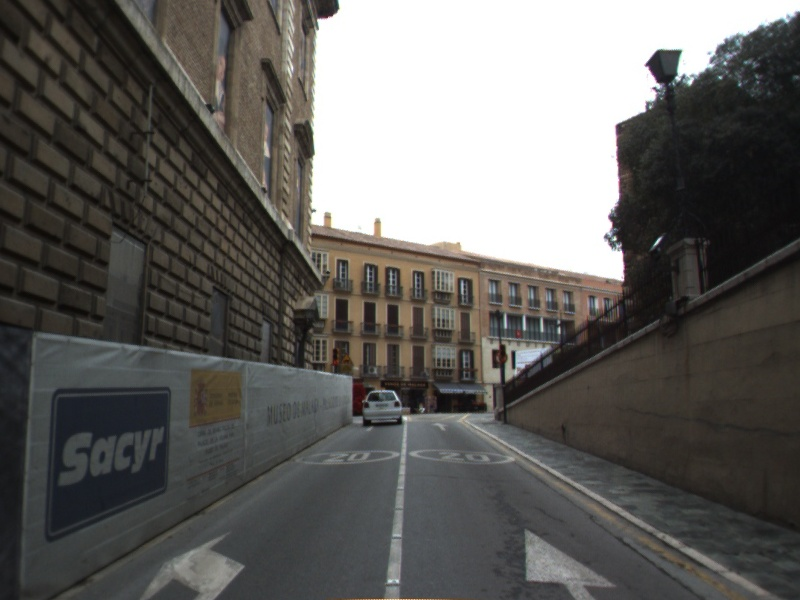LEFT: (137, 529, 247, 600)
STRAIGHT: (523, 526, 619, 600), (430, 421, 450, 432)
